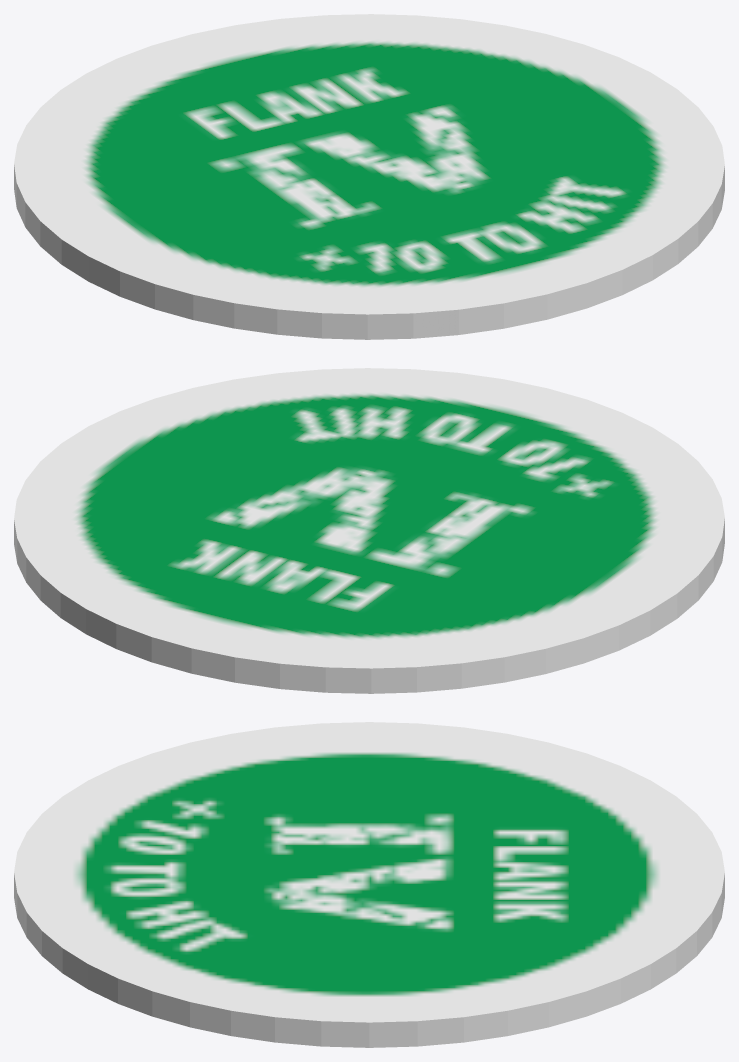
3 views of the same model, one above another, from view 1: azimuth 30°, elevation 25°; view 2: azimuth 150°, elevation 25°; view 3: azimuth 270°, elevation 25° (orthographic).
Visible parts, largest first — view 1: Curve.015_Curve.794; view 2: Curve.015_Curve.794; view 3: Curve.015_Curve.794.
Boxes of the visible parts, left/top/right/bottom form: Curve.015_Curve.794: left=14, top=14, right=724, bottom=339; Curve.015_Curve.794: left=14, top=368, right=724, bottom=693; Curve.015_Curve.794: left=14, top=722, right=724, bottom=1047.
Size of the model in its own units: 1 by 0.0394 by 1.
